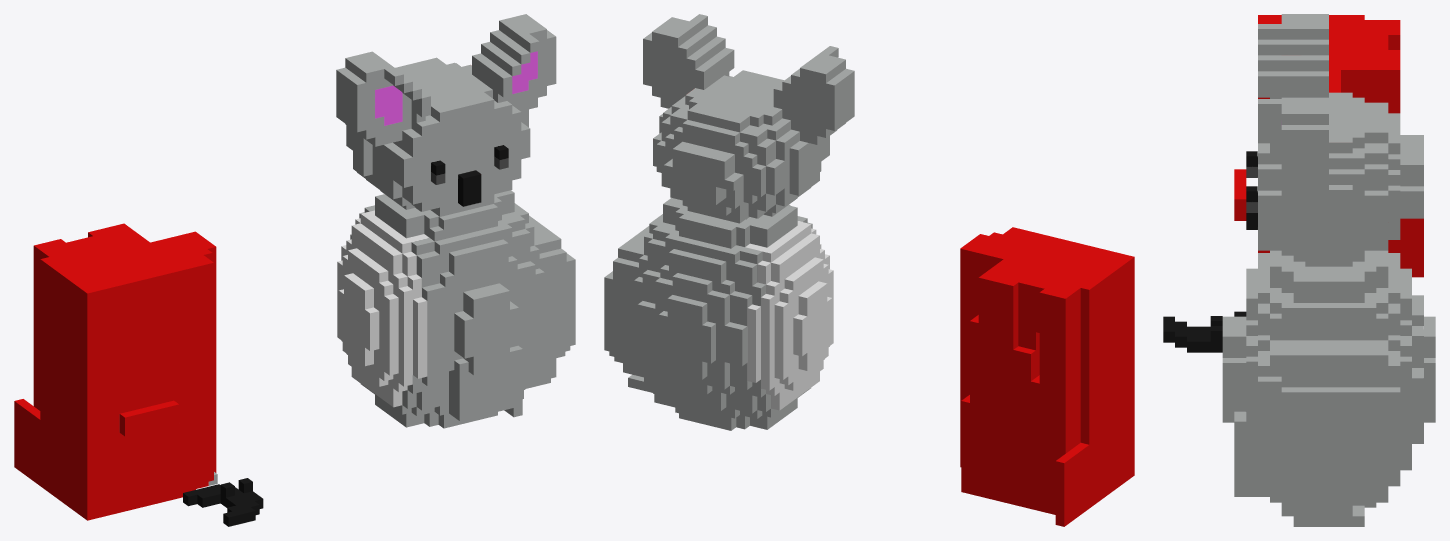
The model's file is koara.glb.
3 views of the same model, side by side, from view 1: azimuth 30°, elevation 25°; view 2: azimuth 150°, elevation 25°; view 3: azimuth 270°, elevation 25° (orthographic). The views are drawn at different scales.
Visible parts, largest first — view 1: koara; view 2: koara; view 3: koara.
Boxes of the visible parts, x1,y1,x2,y2 form: koara: (14,14,575,526); koara: (604,14,1134,526); koara: (1163,14,1435,526).
Size of the model in its own units: 1.08 by 0.78 by 0.46.
Materials: 1 (1 with a texture image).
